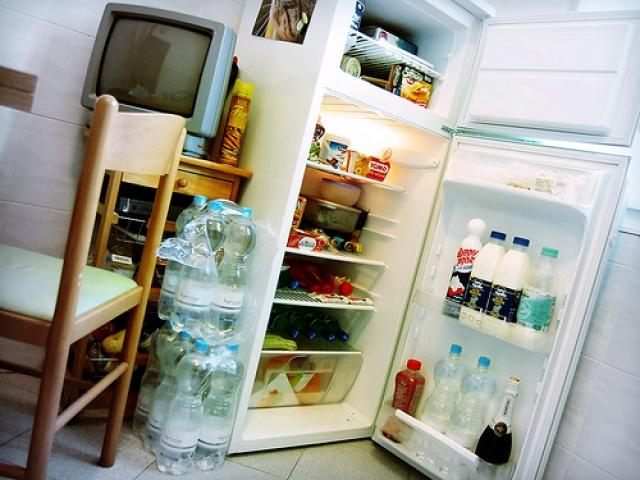Kursi: (0, 92, 188, 479)
